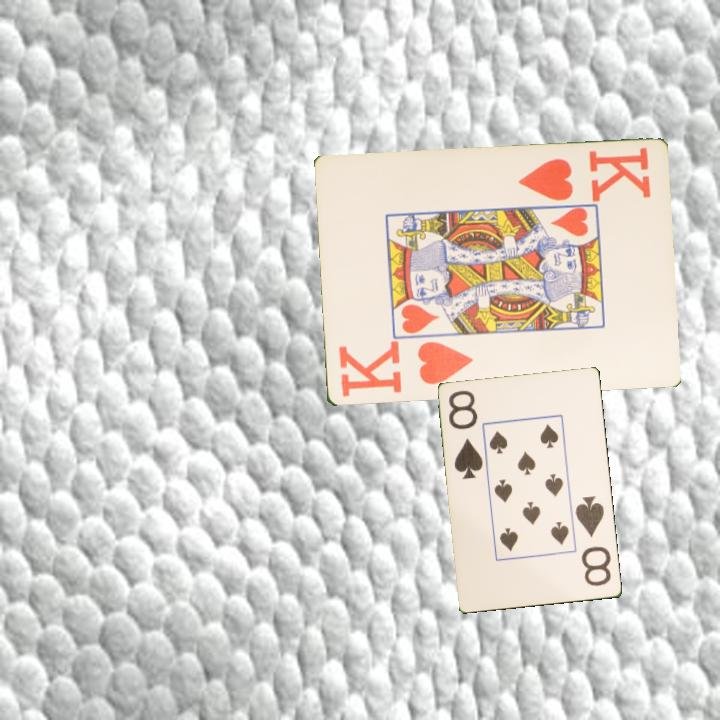8s: (572, 493, 614, 589), (445, 387, 486, 483)
Kh: (334, 338, 475, 401), (514, 144, 653, 205)
